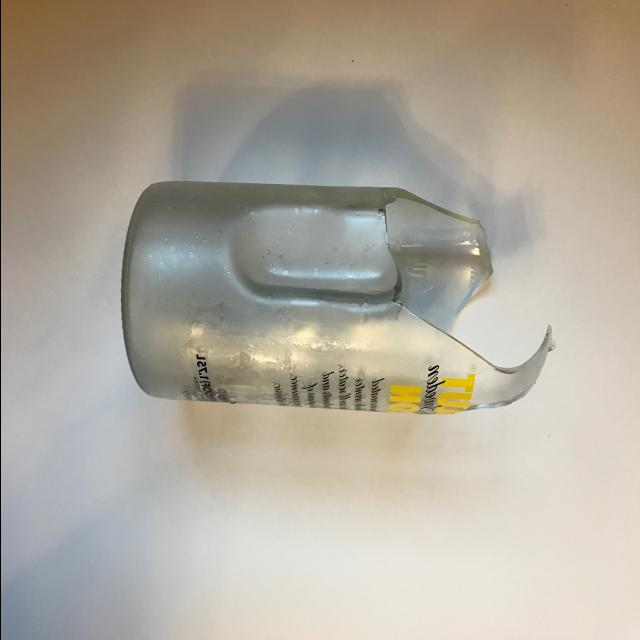glass: (75, 153, 568, 477)
